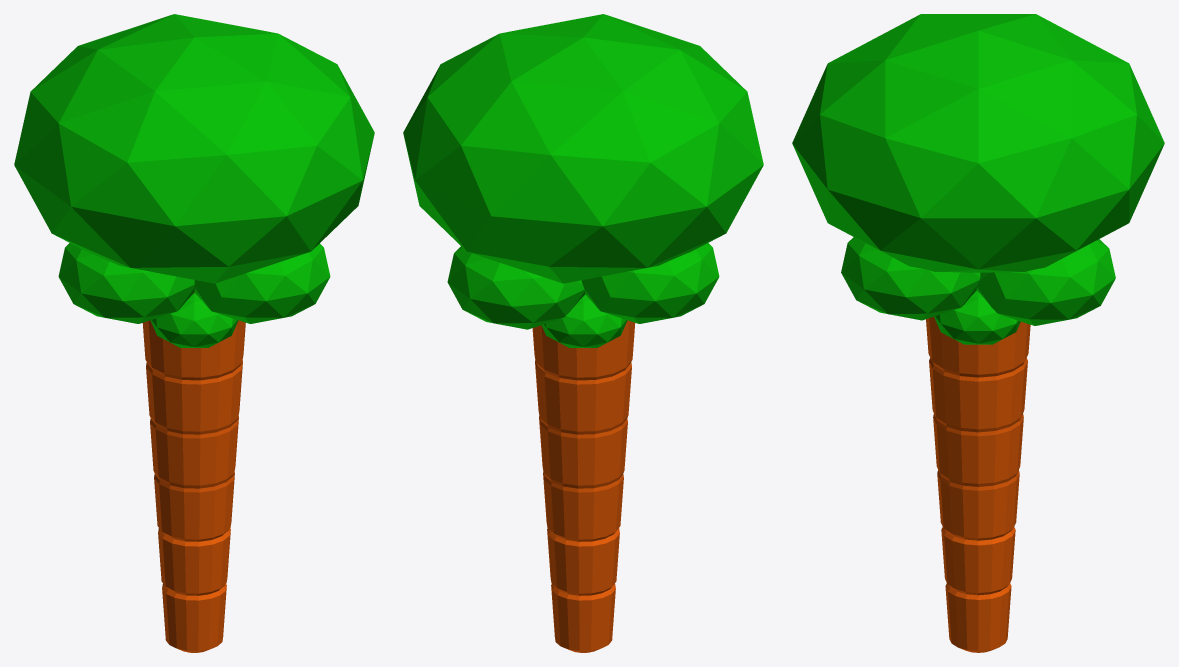
Rendered from Carrot Tree.fbx.
3 renders of one model, left to right at view 1: azimuth 30°, elevation 25°; view 2: azimuth 150°, elevation 25°; view 3: azimuth 270°, elevation 25°, orthographic.
Parts seen in each view (by area): view 1: Icosphere, Cylinder, Icosphere.001, Icosphere.004, Icosphere.008; view 2: Icosphere, Cylinder, Icosphere.005, Icosphere.001, Icosphere.007; view 3: Icosphere, Cylinder, Icosphere.005, Icosphere.004, Icosphere.006.
Boxes of the visible parts, x1,y1,x2,y2 form: Icosphere: (14,14,374,283); Cylinder: (142,292,245,652); Icosphere.001: (58,243,194,323); Icosphere.004: (194,243,330,323); Icosphere.008: (150,293,238,347); Icosphere: (403,14,763,283); Cylinder: (532,320,635,652); Icosphere.005: (447,246,585,329); Icosphere.001: (581,243,719,323); Icosphere.007: (541,294,627,347); Icosphere: (792,14,1164,272); Cylinder: (926,316,1030,652); Icosphere.005: (976,239,1115,325); Icosphere.004: (841,237,980,320); Icosphere.006: (934,290,1020,344).
Bounding box in the file's own units: 571 × 1096 × 600.
